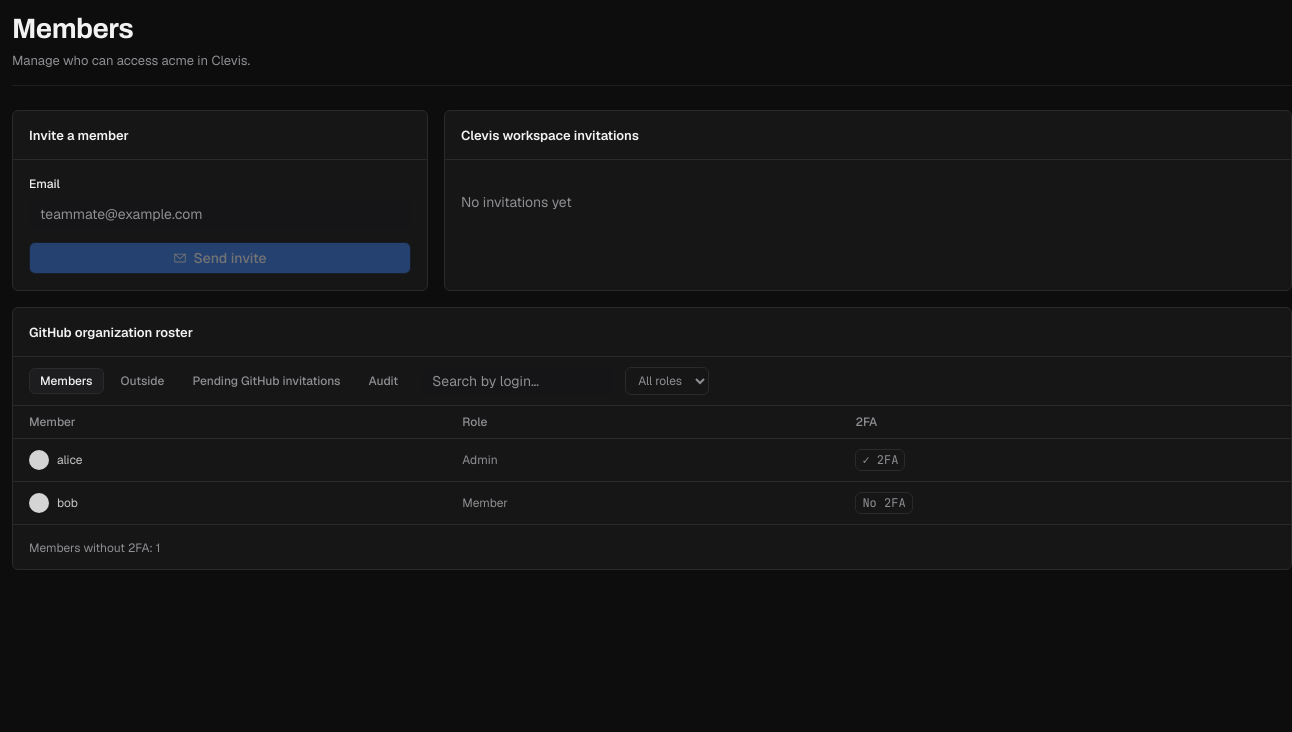
Scenario: GithubRoster (Collaborators page) › filters the visible members by the search input
Check: the link "alice" is shown, box [57,452,83,468]
Type "ali" into the field with placeholder "Search by login…".
click(517, 382); type("ali")  # box [421,368,613,396]
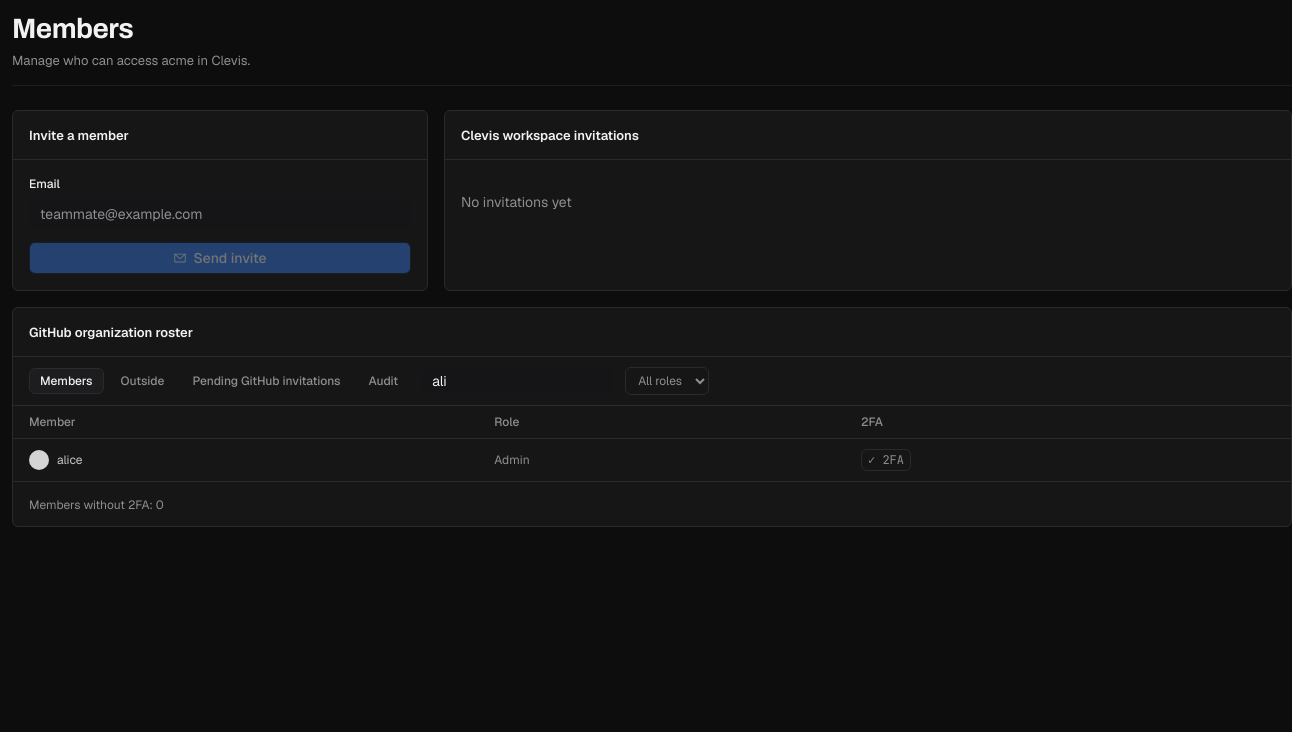
Check: the link "alice" is shown, box [57,452,83,468]
Check: the link "bob" is gone
